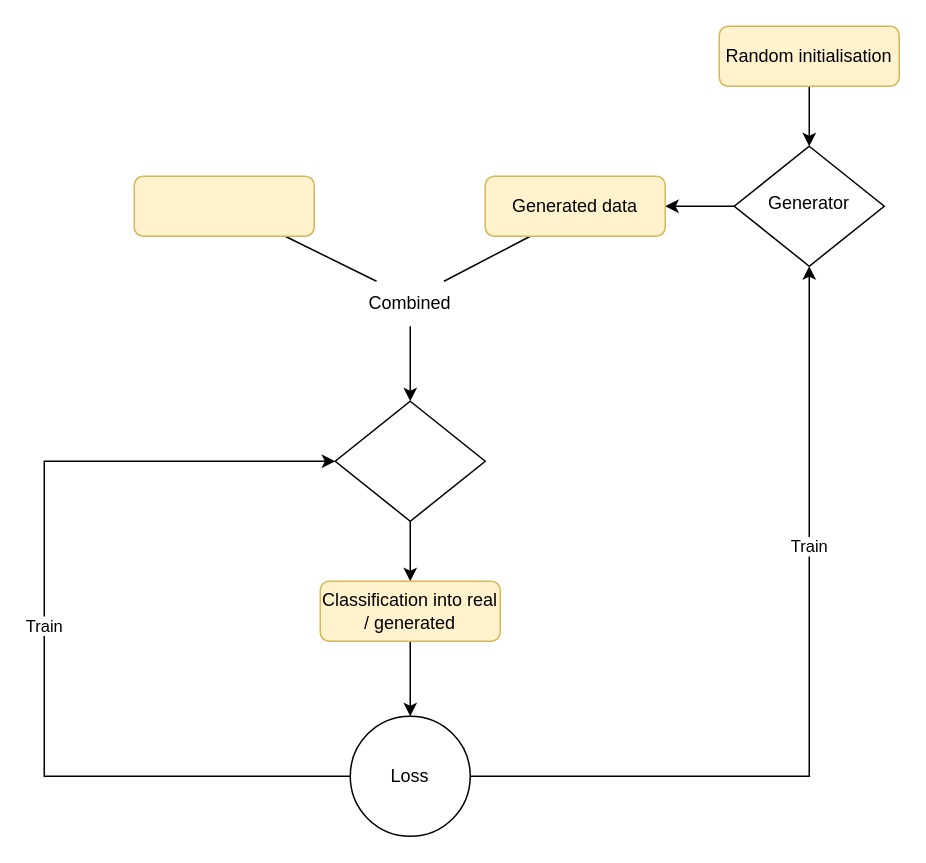
This 926x863 diagram has some shape labels left out. Here are the shapes that lost their labels. From the top down, the centre of each, then its label:
the point at 223,205: Real data
the point at 409,460: Discriminator
